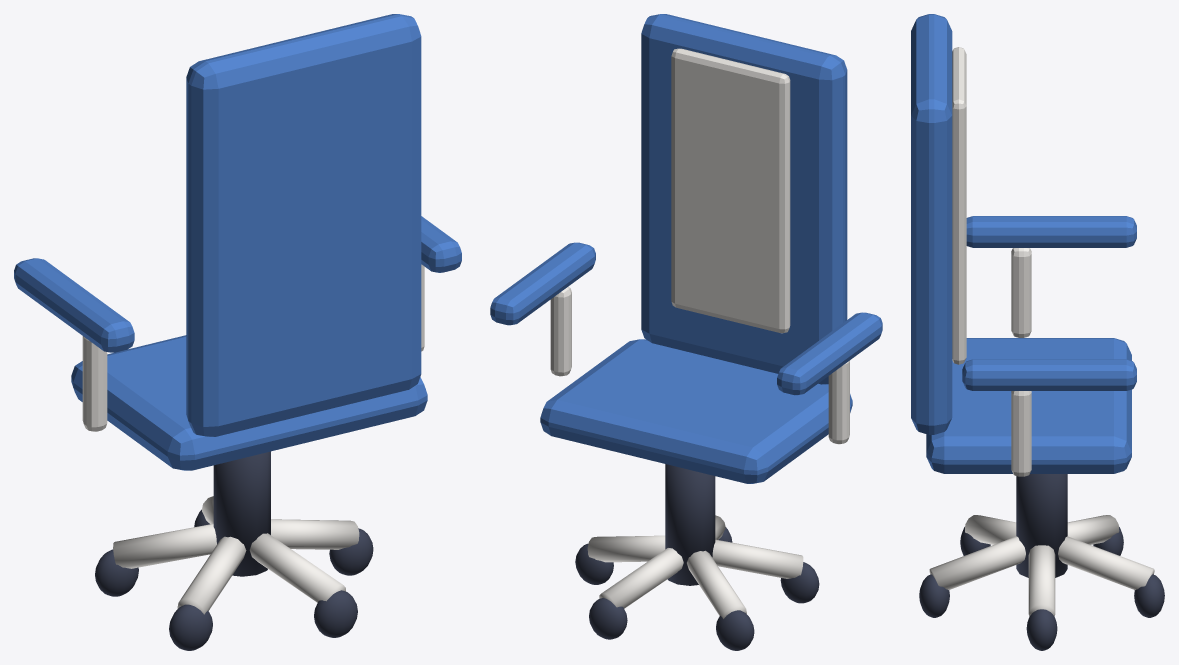
File: fixture-production.glb
3 renders of one model, left to right at view 1: azimuth 30°, elevation 25°; view 2: azimuth 150°, elevation 25°; view 3: azimuth 270°, elevation 25°, orthographic. The views are drawn at different scales.
Visible parts, largest first — view 1: chair-back, Chair_Seat, chair-pedestal, chair-arm, chair-spoke.002, chair-spoke.004, chair-spoke, chair-spoke.003, chair-arm-support, chair-arm.001, chair-caster.003, chair-caster.004 (+2 smaller); view 2: chair-back, chair-back-insert, Chair_Seat, chair-pedestal, chair-arm.001, chair-arm, chair-spoke.003, chair-spoke.001, chair-spoke, chair-spoke.002, chair-arm-support.001, chair-arm-support (+4 smaller); view 3: Chair_Seat, chair-back, chair-arm.001, chair-arm, chair-back-insert, chair-pedestal, chair-spoke.001, chair-spoke.004, chair-arm-support, chair-spoke, chair-arm-support.001, chair-spoke.002 (+6 smaller).
Part boxes in pixels (bbox=[...]): chair-back: bbox=[186, 14, 421, 436]; Chair_Seat: bbox=[71, 335, 427, 470]; chair-pedestal: bbox=[213, 451, 270, 576]; chair-arm: bbox=[14, 258, 134, 352]; chair-spoke.002: bbox=[113, 523, 216, 568]; chair-spoke.004: bbox=[249, 533, 345, 602]; chair-spoke: bbox=[271, 519, 359, 549]; chair-spoke.003: bbox=[177, 536, 246, 614]; chair-arm-support: bbox=[82, 336, 107, 431]; chair-arm.001: bbox=[421, 216, 461, 272]; chair-caster.003: bbox=[169, 604, 212, 650]; chair-caster.004: bbox=[314, 590, 357, 637]; chair-back: bbox=[641, 14, 847, 384]; chair-back-insert: bbox=[671, 48, 790, 333]; Chair_Seat: bbox=[540, 339, 852, 483]; chair-pedestal: bbox=[665, 464, 715, 585]; chair-arm.001: bbox=[490, 242, 595, 325]; chair-arm: bbox=[777, 312, 882, 395]; chair-spoke.003: bbox=[712, 539, 803, 578]; chair-spoke.001: bbox=[599, 548, 683, 608]; chair-spoke: bbox=[587, 535, 665, 562]; chair-spoke.002: bbox=[687, 550, 746, 618]; chair-arm-support.001: bbox=[550, 286, 571, 376]; chair-arm-support: bbox=[828, 360, 849, 444]; Chair_Seat: bbox=[926, 338, 1131, 473]; chair-back: bbox=[911, 14, 952, 434]; chair-arm.001: bbox=[962, 359, 1136, 390]; chair-arm: bbox=[966, 216, 1136, 247]; chair-back-insert: bbox=[952, 47, 966, 364]; chair-pedestal: bbox=[1016, 474, 1067, 577]; chair-spoke.001: bbox=[1058, 536, 1154, 589]; chair-spoke.004: bbox=[929, 536, 1025, 589]; chair-arm-support: bbox=[1011, 248, 1031, 337]; chair-spoke: bbox=[1028, 545, 1055, 616]; chair-arm-support.001: bbox=[1011, 391, 1031, 476]; chair-spoke.002: bbox=[1067, 515, 1119, 544].
Size of the model in its own units: 0.725 by 1.17 by 0.4942.
